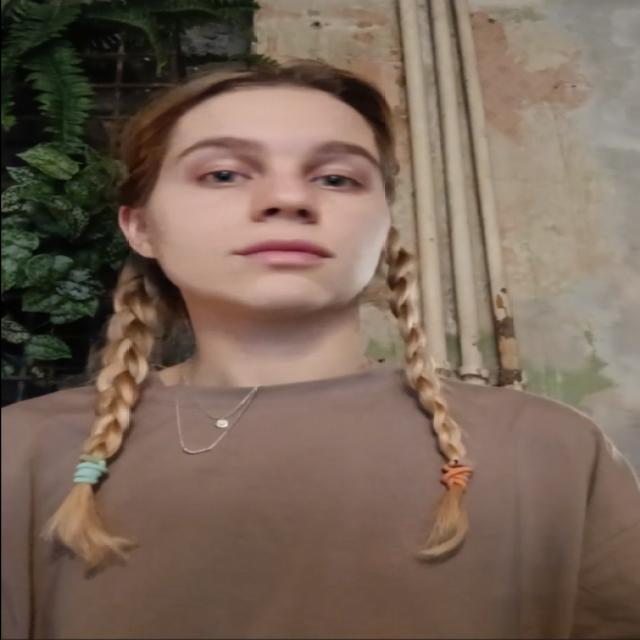earlobe: (135, 239, 157, 259)
eye: (196, 166, 251, 186), (310, 173, 365, 192)
nose: (255, 214, 322, 240)
wholeear: (117, 202, 157, 259)
